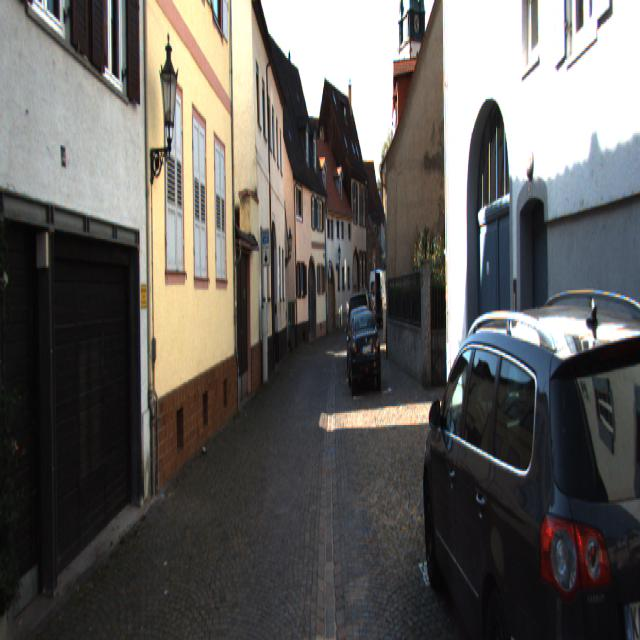Car: (420, 287, 639, 638), (347, 305, 381, 390), (370, 268, 392, 328)
